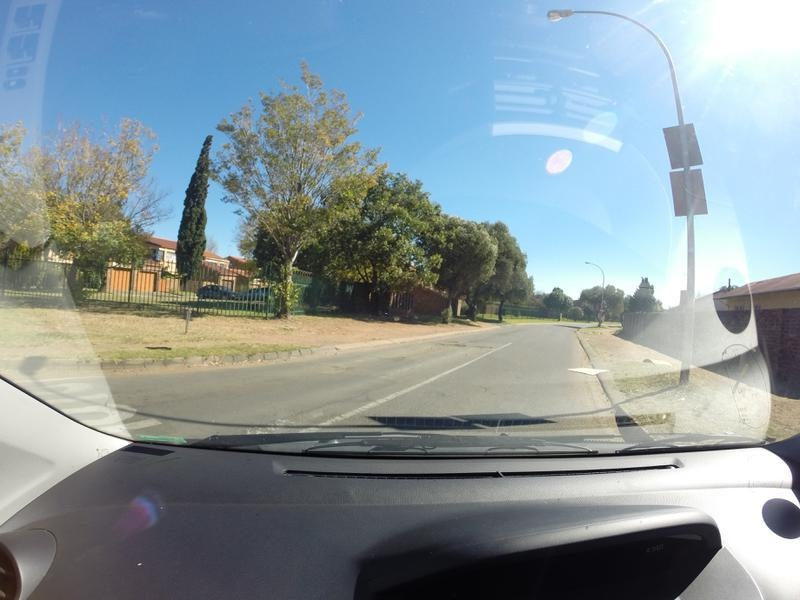pothole: (317, 357, 346, 383), (442, 333, 468, 352)
